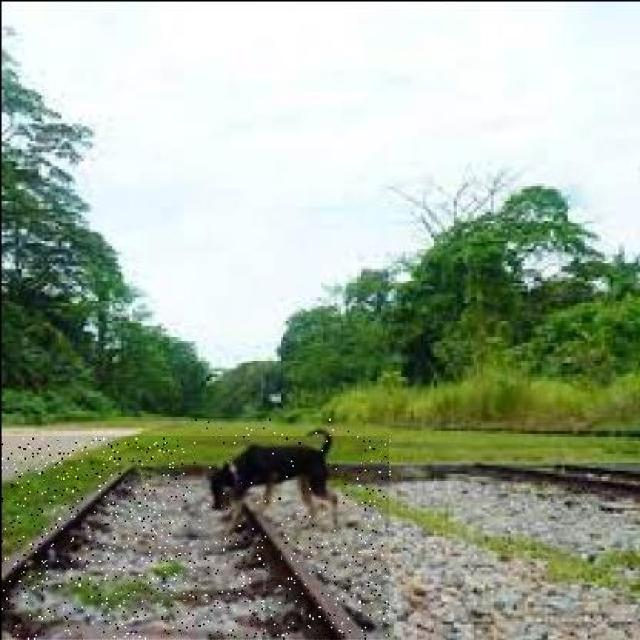rail: (1, 438, 390, 640)
